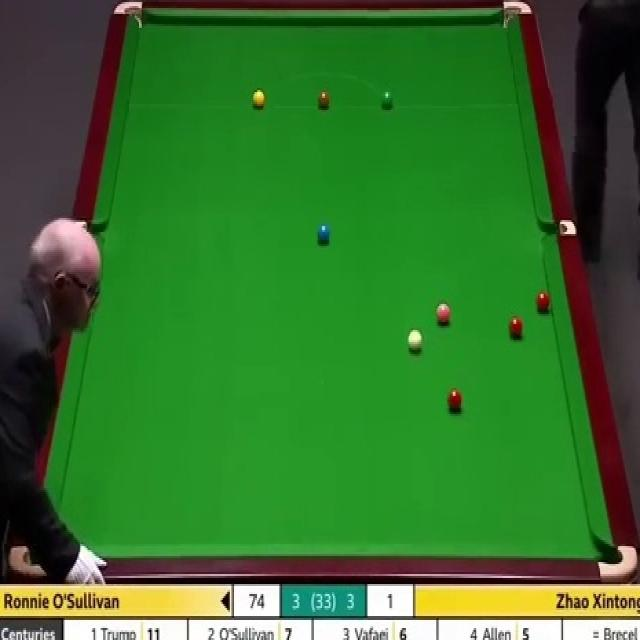pocket: (594, 543, 637, 582), (501, 0, 530, 32), (113, 0, 143, 28), (540, 220, 574, 235)
